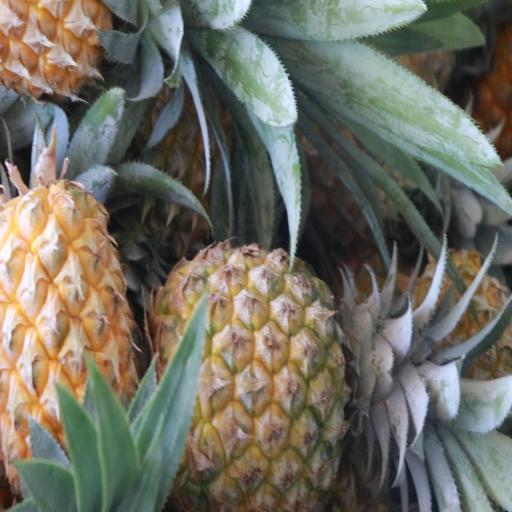Pineapple - v8 v1: (155, 251, 365, 512), (0, 170, 135, 507)
